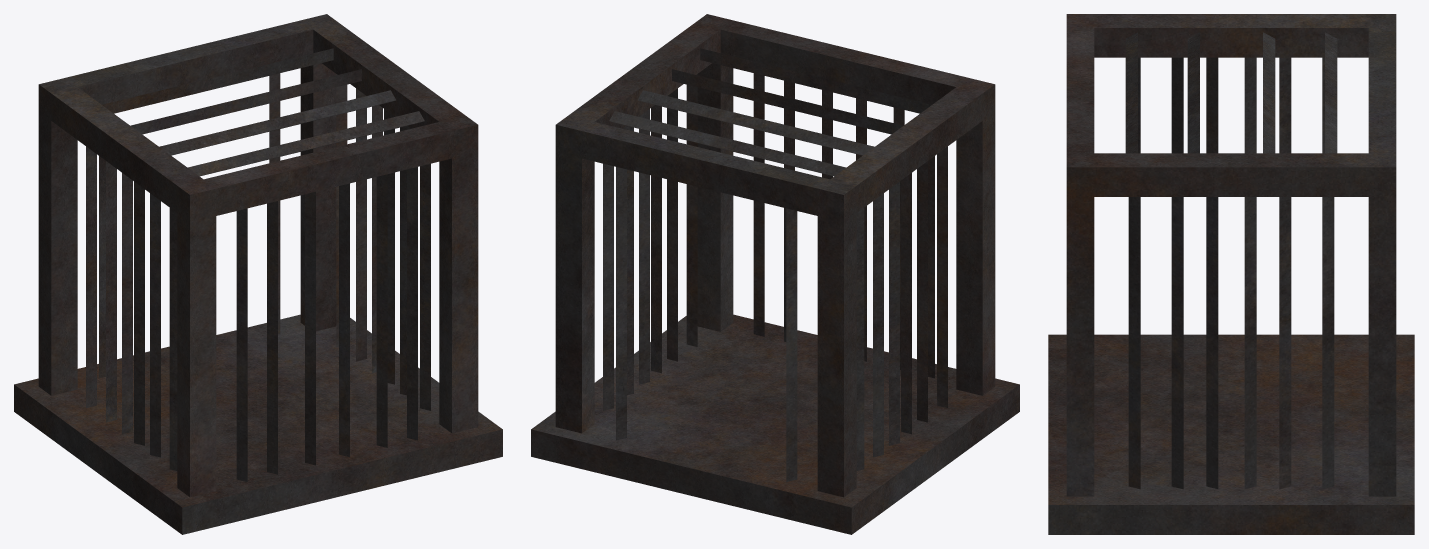
Rendered from medieval_cage.glb.
3 renders of one model, left to right at view 1: azimuth 30°, elevation 25°; view 2: azimuth 150°, elevation 25°; view 3: azimuth 270°, elevation 25°, orthographic. The views are drawn at different scales.
Visible parts, largest first — view 1: Cage_0; view 2: Cage_0; view 3: Cage_0.
Boxes of the visible parts, bbox=[...] form: Cage_0: bbox=[14, 14, 502, 534]; Cage_0: bbox=[531, 14, 1019, 534]; Cage_0: bbox=[1048, 14, 1414, 534].
Bounding box in the file's own units: 2.45 × 2.41 × 2.22.
Materials: 1 (1 with a texture image).
